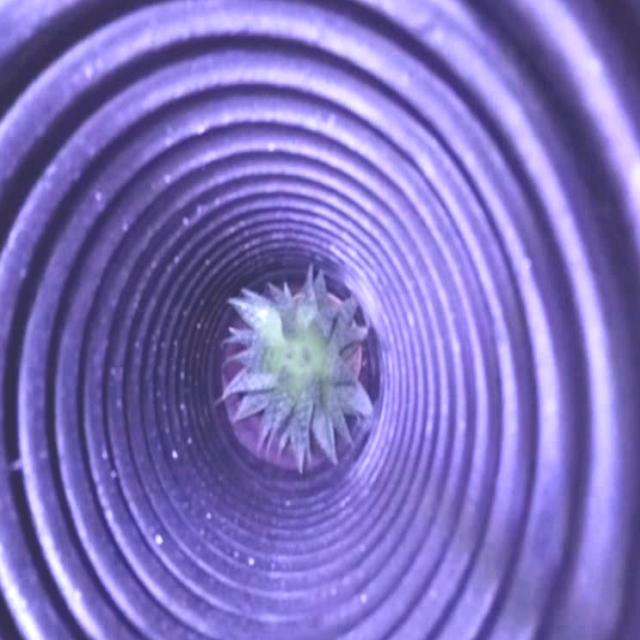leaf: (227, 277, 370, 460)
